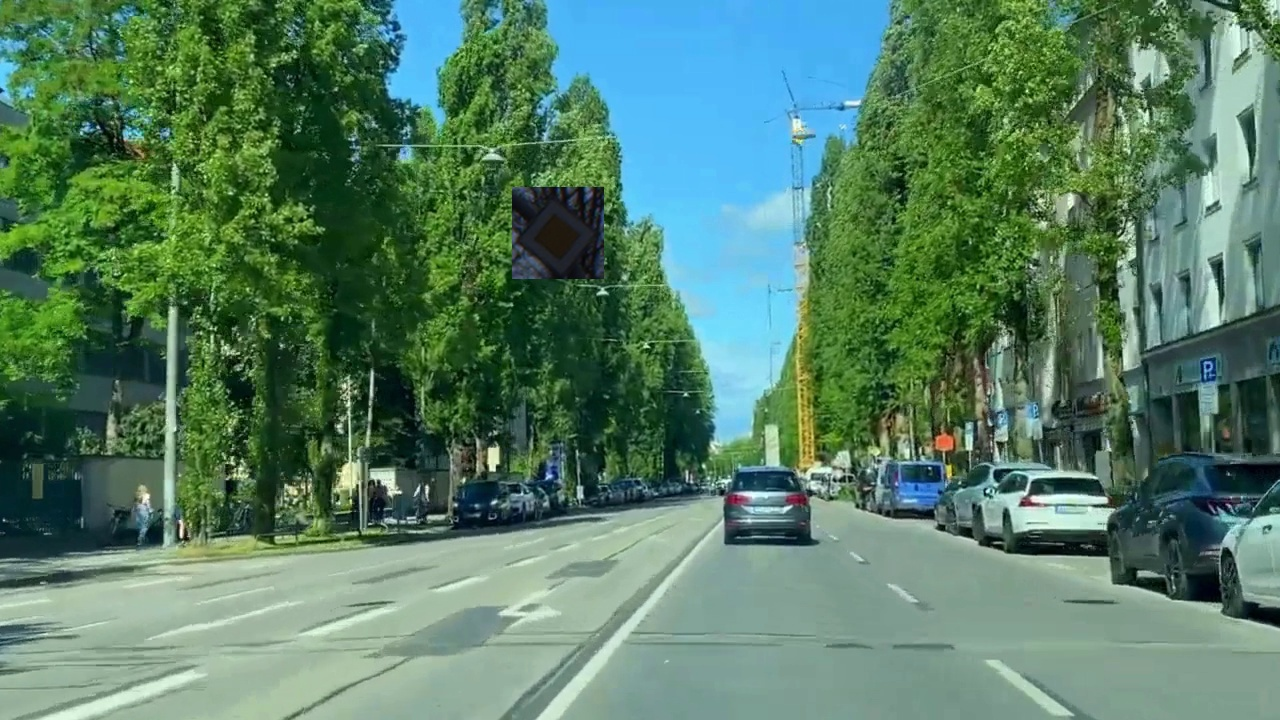Priority road: (512, 187, 604, 279)
